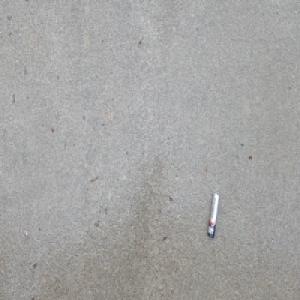Battery: (206, 190, 220, 239)
